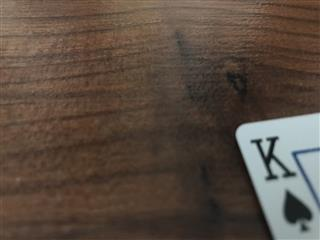KingOfSpades: (233, 111, 320, 240)
